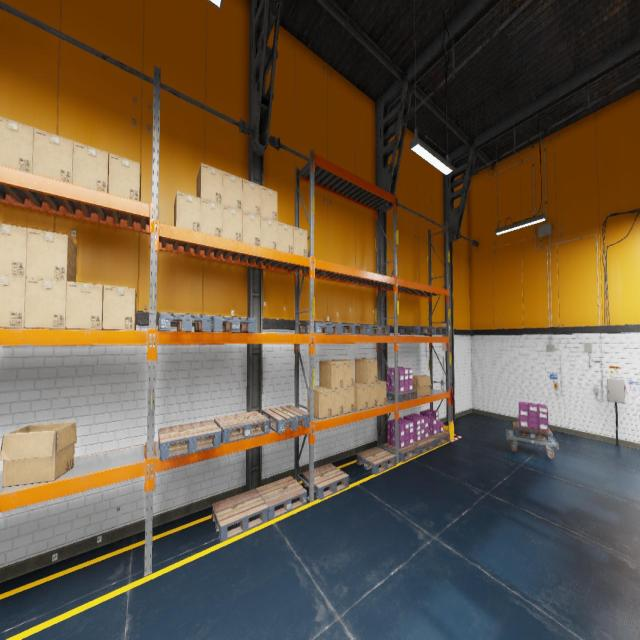box: (0, 422, 77, 486), (26, 228, 77, 282), (32, 128, 74, 183), (24, 278, 66, 329), (0, 116, 34, 173), (72, 141, 109, 193), (65, 282, 104, 330), (108, 153, 141, 201), (103, 285, 136, 330), (0, 222, 27, 277), (0, 275, 26, 328), (196, 163, 223, 204), (174, 191, 200, 232), (200, 199, 222, 237), (308, 386, 332, 419), (223, 171, 242, 210), (242, 178, 261, 216), (222, 205, 242, 241), (320, 360, 343, 389), (242, 211, 260, 246), (355, 358, 377, 384), (261, 186, 277, 221), (334, 360, 354, 387), (357, 382, 377, 408), (261, 217, 277, 249), (277, 222, 293, 253), (411, 374, 431, 396), (293, 226, 307, 256), (354, 382, 368, 410), (343, 386, 354, 414), (332, 388, 343, 416), (377, 380, 386, 406)
pallets: (212, 489, 268, 542), (158, 420, 222, 460), (255, 476, 307, 520), (214, 411, 269, 444), (302, 464, 349, 499), (262, 405, 310, 433), (356, 446, 396, 474), (158, 313, 212, 331), (512, 421, 553, 443), (382, 443, 420, 462), (211, 316, 255, 332), (299, 322, 342, 334), (333, 323, 366, 335), (414, 437, 436, 454), (386, 390, 417, 402), (428, 431, 449, 447), (359, 325, 390, 335), (399, 326, 434, 334), (420, 326, 447, 335)
